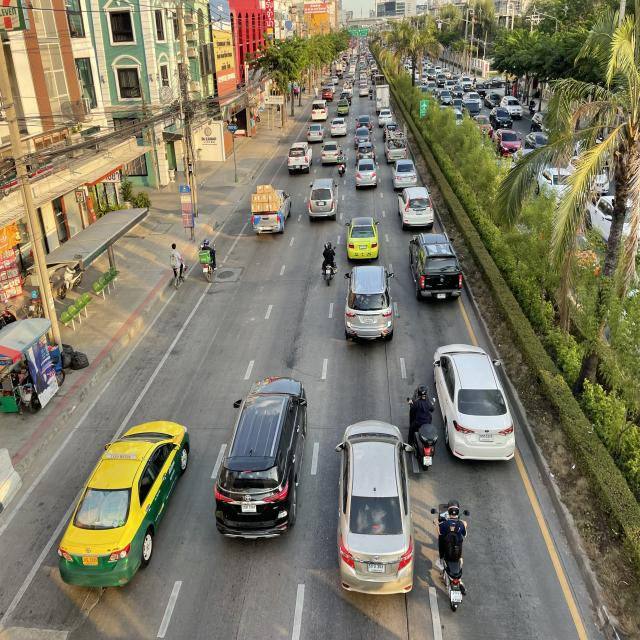bike: (431, 496, 471, 615), (406, 382, 439, 471), (198, 235, 218, 282), (322, 238, 339, 287), (336, 150, 346, 178)
car: (57, 417, 191, 590), (213, 374, 309, 542), (336, 418, 416, 598), (431, 340, 517, 464), (344, 264, 394, 344), (397, 187, 434, 231), (345, 216, 380, 261), (308, 178, 340, 222), (390, 159, 418, 191), (353, 158, 379, 190), (321, 141, 342, 166)
truck: (409, 232, 464, 304), (250, 184, 292, 236), (383, 126, 408, 164), (287, 141, 313, 175)
